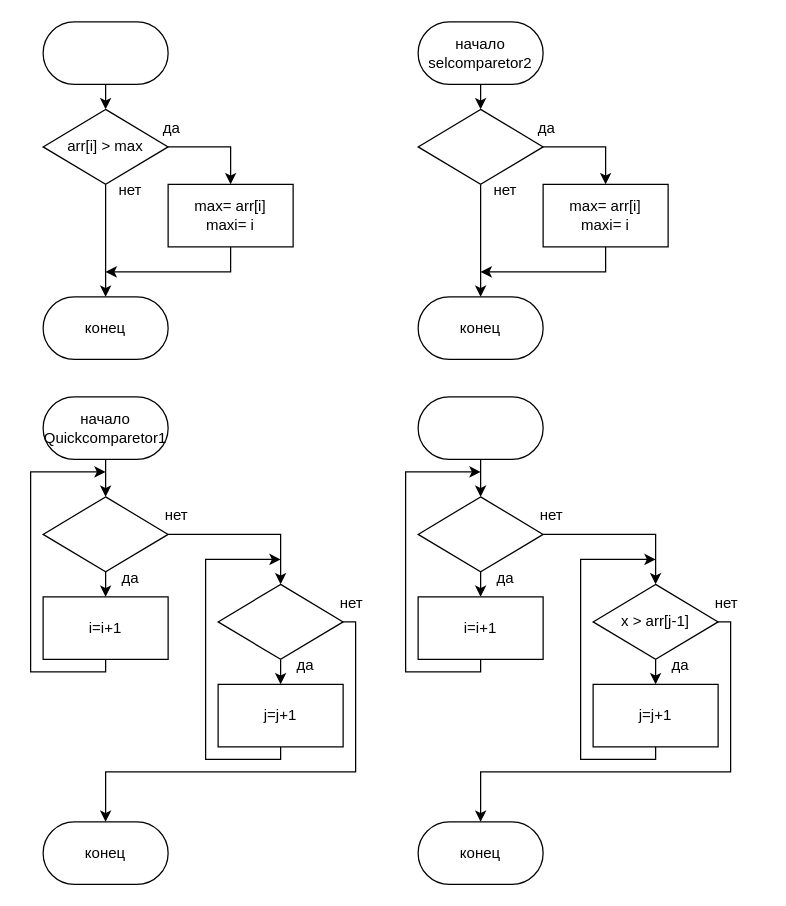
Some shapes in this 786 by 906 pixel diagram are drawn without their labels. The shapes that lost their labels are listed below. From the top down, each one's box as (x1, y1, x2, y2) in pixels, then its label:
(42, 21, 168, 84): начало selcomparetor1
(417, 108, 543, 184): arr[i] < max
(417, 396, 543, 459): начало Quickcomparetor2
(42, 496, 168, 572): arr[i] < x
(417, 496, 543, 572): arr[i] > x
(217, 583, 343, 659): x < arr[j-1]
